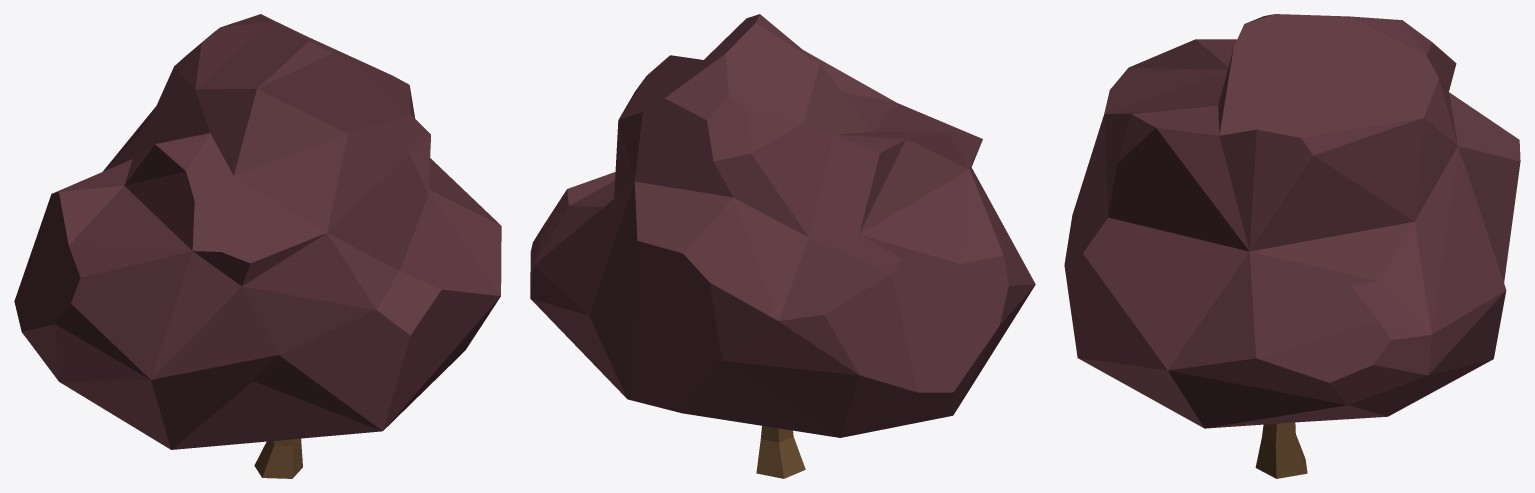
Rendered from bush-big.fbx.
3 views of the same model, side by side, from view 1: azimuth 30°, elevation 25°; view 2: azimuth 150°, elevation 25°; view 3: azimuth 270°, elevation 25° (orthographic). The views are drawn at different scales.
Parts seen in each view (by area): view 1: bush-big; view 2: bush-big; view 3: bush-big.
Boxes of the visible parts, x1,y1,x2,y2 form: bush-big: (14,14,501,478); bush-big: (530,14,1035,478); bush-big: (1064,14,1520,478).
Size of the model in its own units: 2.75 by 2.59 by 2.29.
